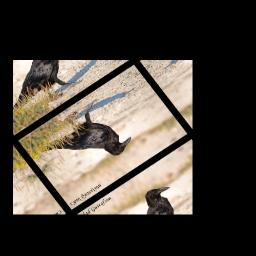Crow: (30, 96, 137, 190)
